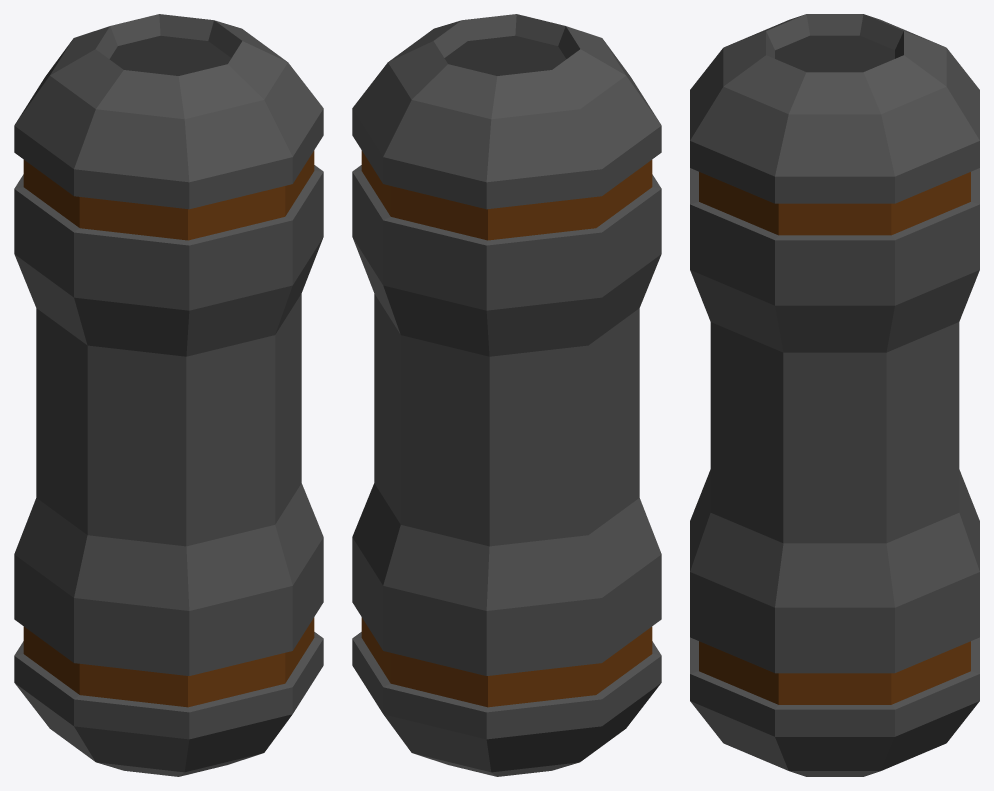
The model's file is Props_Vessel.obj.
3 renders of one model, left to right at view 1: azimuth 30°, elevation 25°; view 2: azimuth 150°, elevation 25°; view 3: azimuth 270°, elevation 25°, orthographic.
Parts seen in each view (by area): view 1: Props_Vessel_Cube.027; view 2: Props_Vessel_Cube.027; view 3: Props_Vessel_Cube.027.
Part boxes in pixels (x1,y1,x2,y2): Props_Vessel_Cube.027: (14,14,323,776); Props_Vessel_Cube.027: (352,14,661,776); Props_Vessel_Cube.027: (690,14,979,776).
Bounding box in the file's own units: 0.2873 × 0.7705 × 0.2873.
